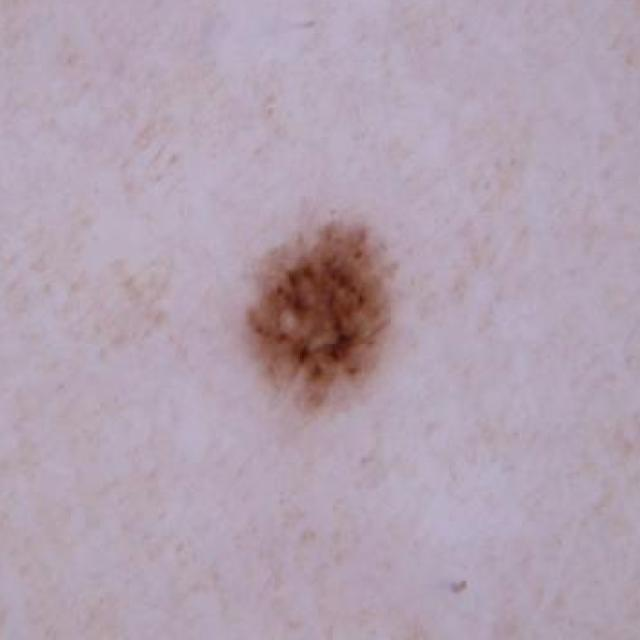BKL: (212, 183, 422, 426)
